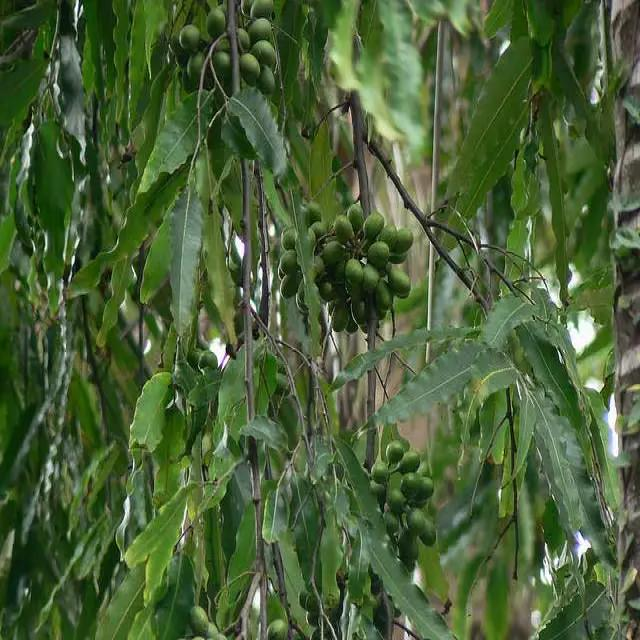Ashoka: (27, 12, 606, 640), (10, 121, 466, 640), (374, 4, 640, 484), (342, 236, 640, 640), (118, 47, 334, 351)
